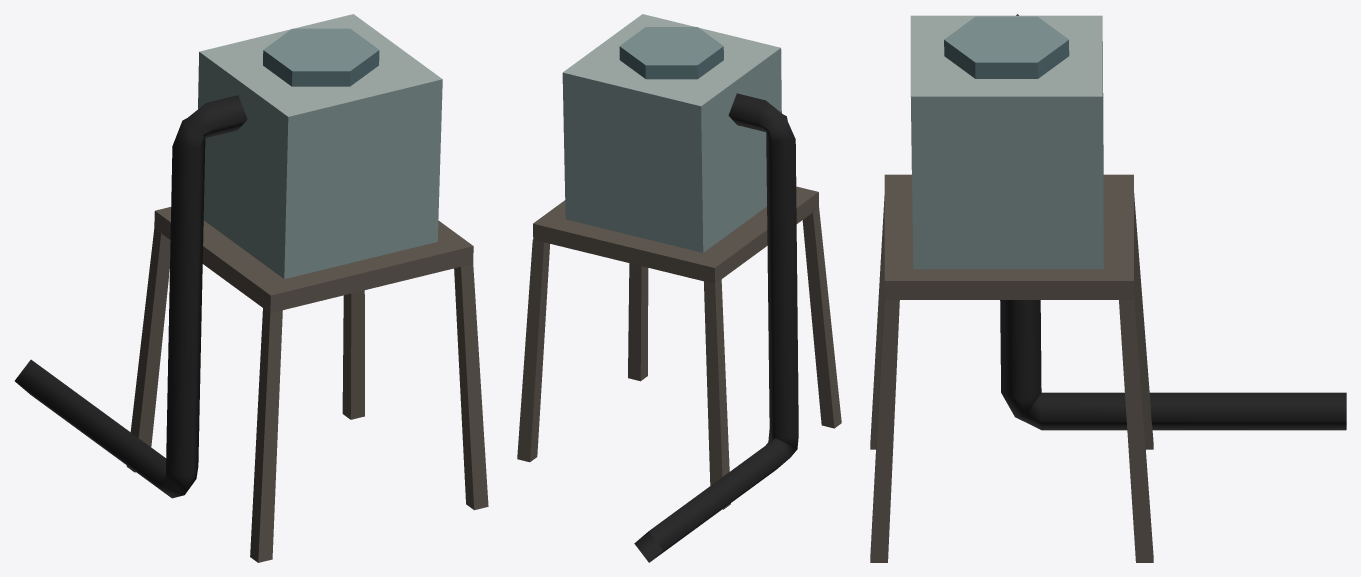
File: Building_RoofPart05.fbx
The picture shows the model from 3 angles, left to right: view 1: azimuth 30°, elevation 25°; view 2: azimuth 150°, elevation 25°; view 3: azimuth 270°, elevation 25°; orthographic projection. The views are drawn at different scales.
Parts seen in each view (by area): view 1: Building_roofpart05; view 2: Building_roofpart05; view 3: Building_roofpart05.
Part boxes in pixels (x1,y1,x2,y2): Building_roofpart05: [15, 14, 488, 562]; Building_roofpart05: [517, 14, 841, 562]; Building_roofpart05: [870, 14, 1346, 562].
Size of the model in its own units: 116 by 190 by 175.
